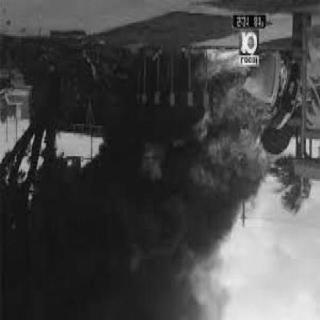Smoke: (0, 166, 262, 320)
